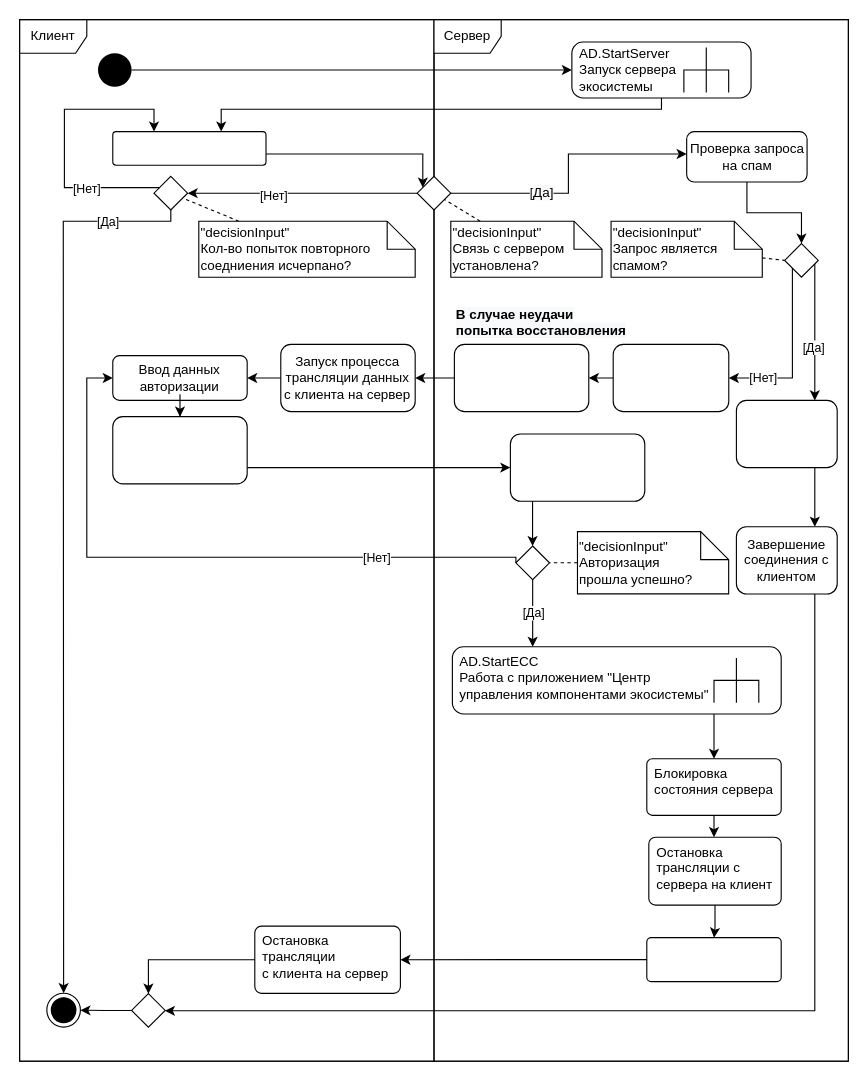
This 868x1081 diagram has some shape labels left out. The centre of each missing label's shape, as x and y in pixels:
Внести IP-адрес в чёрный список: the point at 786,433
Выход из учетной записи: the point at 713,959
Запуск процесса трансляции данных с сервера на клиент: the point at 521,377
Инициализация сессии пользователя: the point at 670,377
Отправка данных авторизации на сервер: the point at 179,450
Проверка данных авторизации: the point at 577,467
Установление связи с сервером: the point at 189,147
